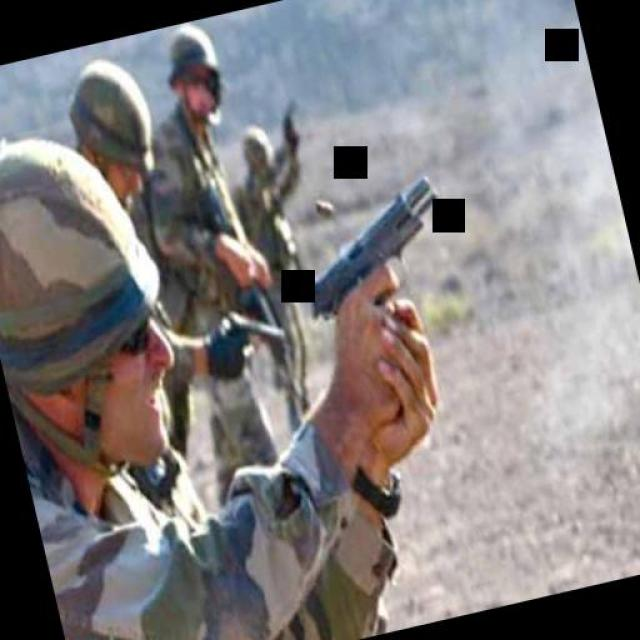gun: (284, 170, 468, 346)
